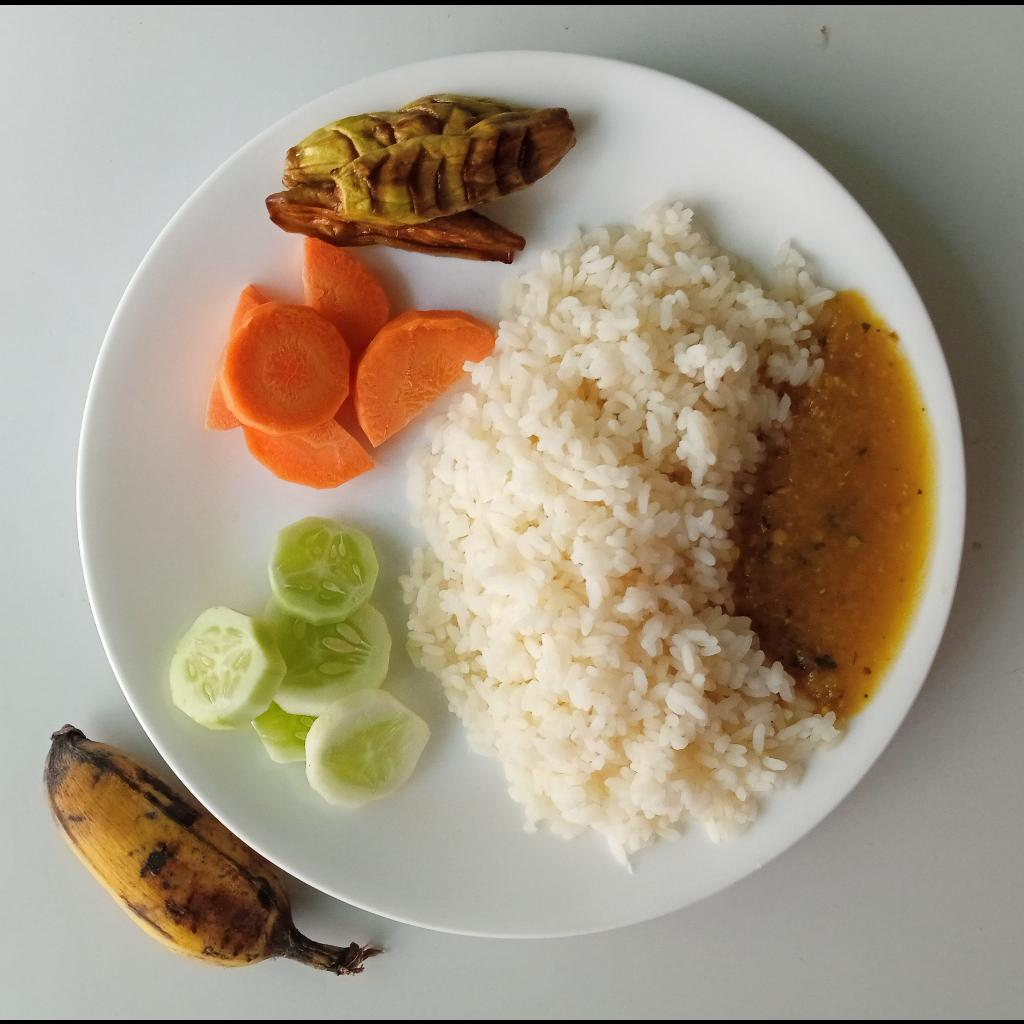banana: (44, 721, 387, 977)
carrot: (204, 237, 495, 490)
cucumber: (170, 518, 432, 804)
daal: (735, 288, 941, 721)
potol: (266, 92, 579, 262)
rice: (399, 200, 841, 882)
